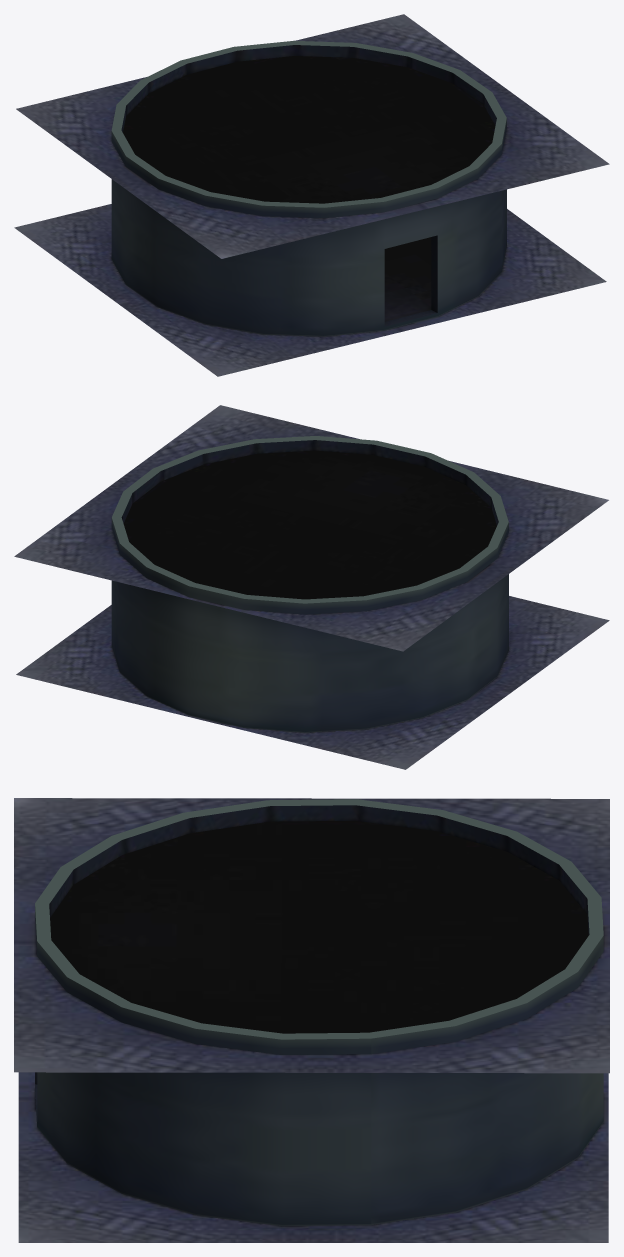
File: Room4Export.fbx
The picture shows the model from 3 angles, top to bottom: view 1: azimuth 30°, elevation 25°; view 2: azimuth 150°, elevation 25°; view 3: azimuth 270°, elevation 25°; orthographic projection. The views are drawn at different scales.
Parts seen in each view (by area): view 1: pPipe3; view 2: pPipe3; view 3: pPipe3.
Part boxes in pixels (x1=…): pPipe3: x1=14, y1=14, x2=609, y2=376; pPipe3: x1=14, y1=405, x2=609, y2=769; pPipe3: x1=14, y1=798, x2=609, y2=1242.
Bounding box in the file's own units: 22.96 × 7.24 × 20.97.
